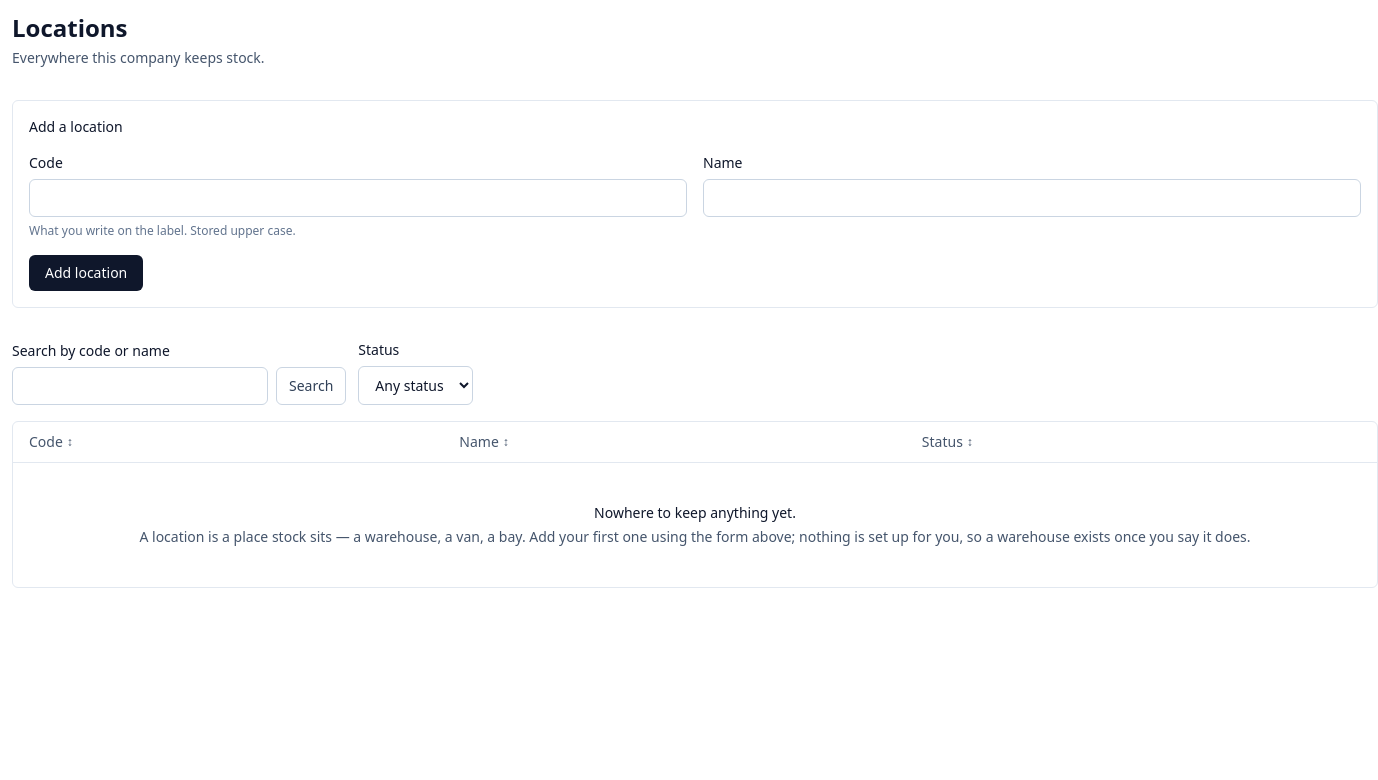
Test case: LocationsPage › adding one › creates a location and refreshes the list
The width and height of the screenshot is (1378, 780).
Expected: the text "Nowhere to keep anything yet." is shown, [594,503,796,522]
In the field labelled "Code": (358, 198) [29,179,687,217], type "wh-1"
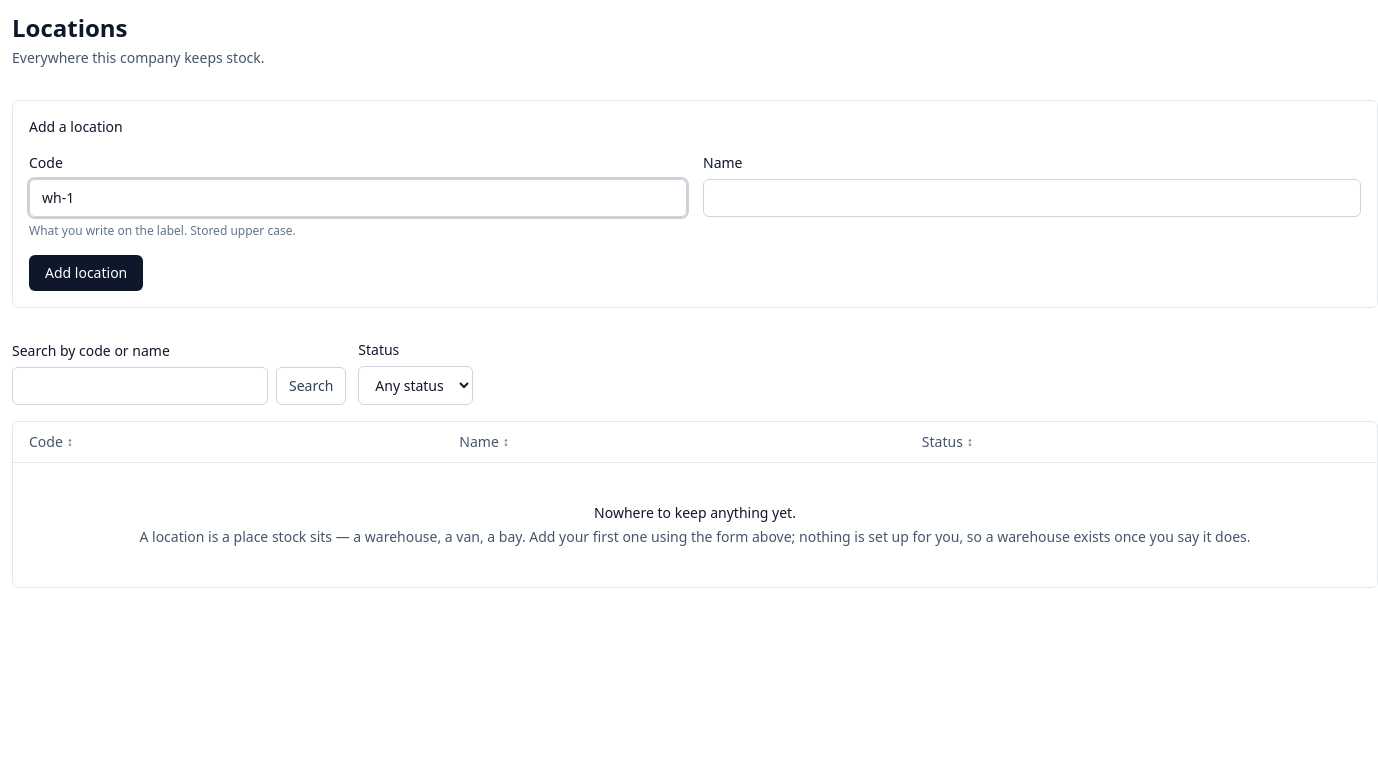
In the field labelled "Name": (1032, 198) [703,179,1361,217], type "WH-1 store"
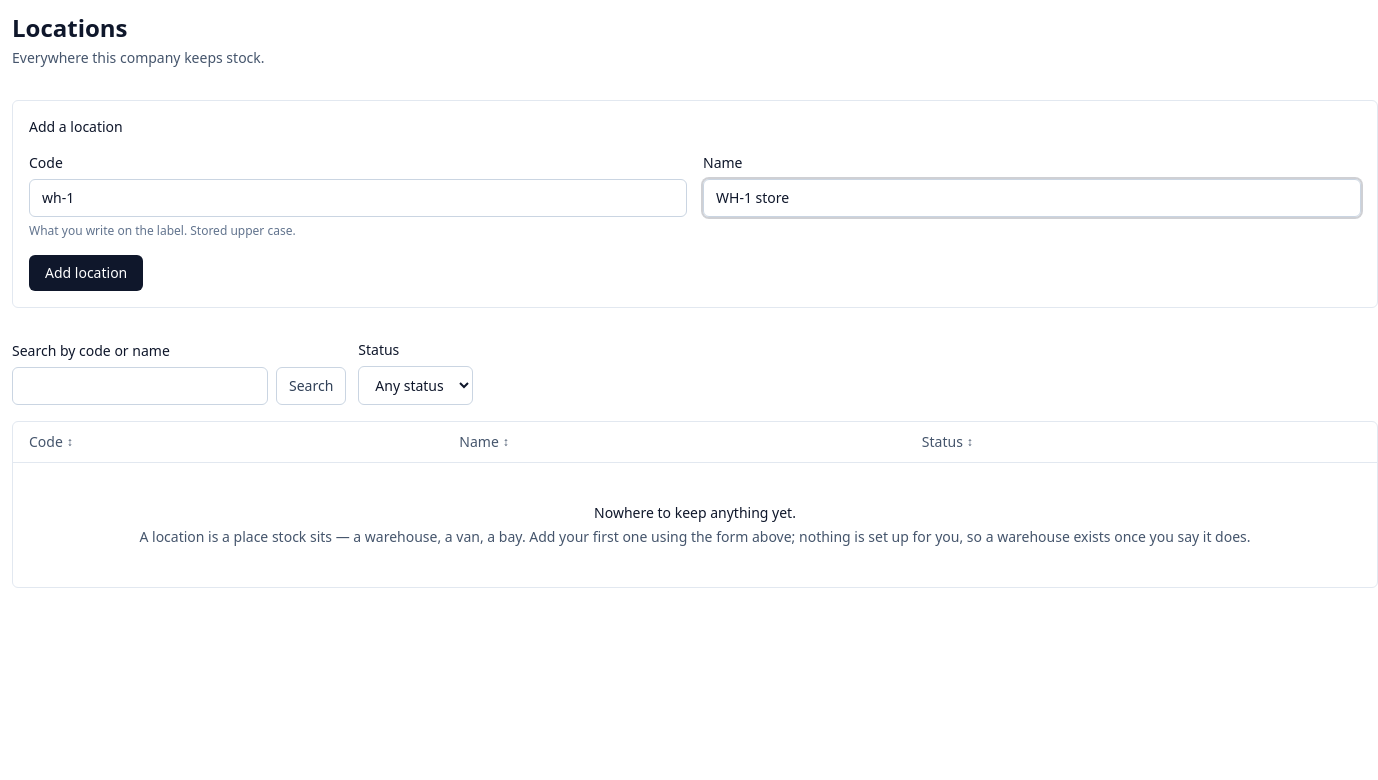
Click the button "Add location": (86, 273) [29,255,143,291]
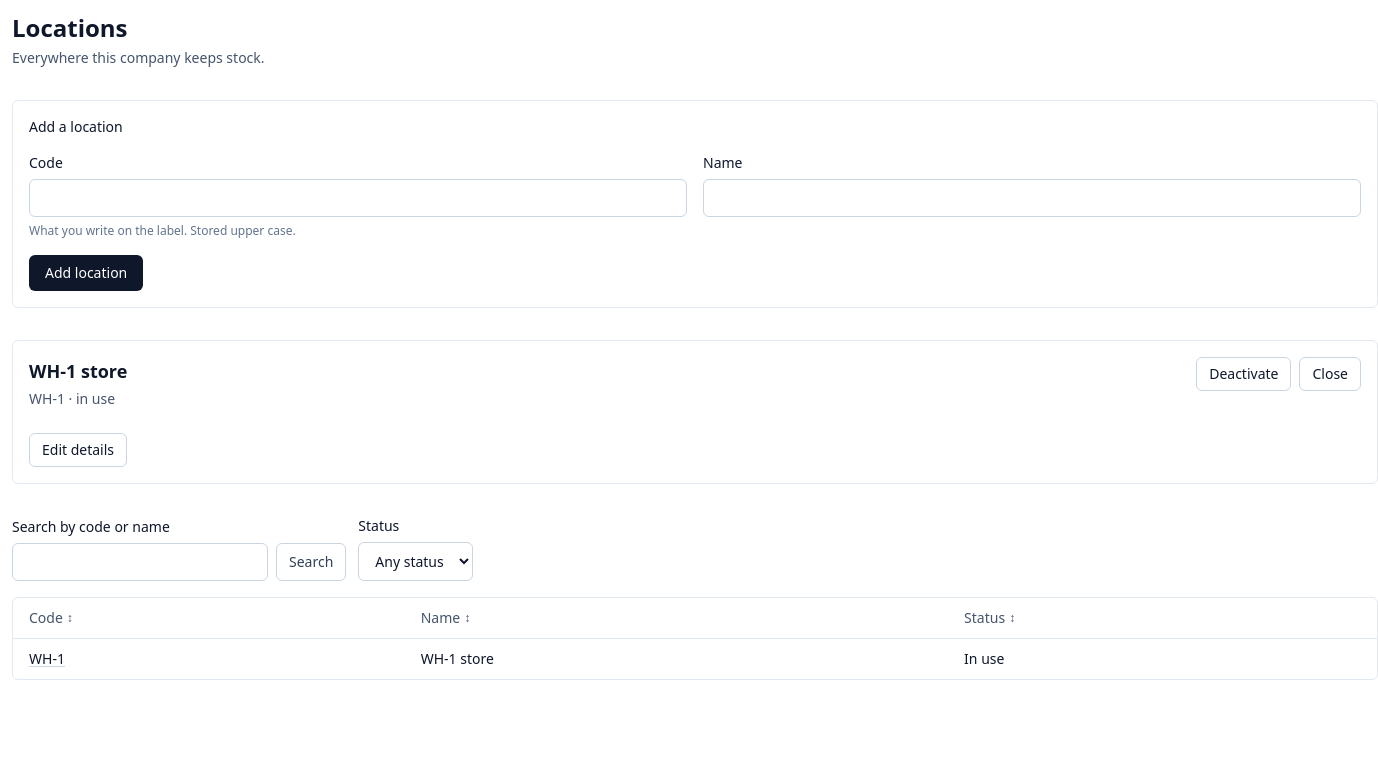
Now the cell "WH-1 store" is shown, box [405,639,948,679]
